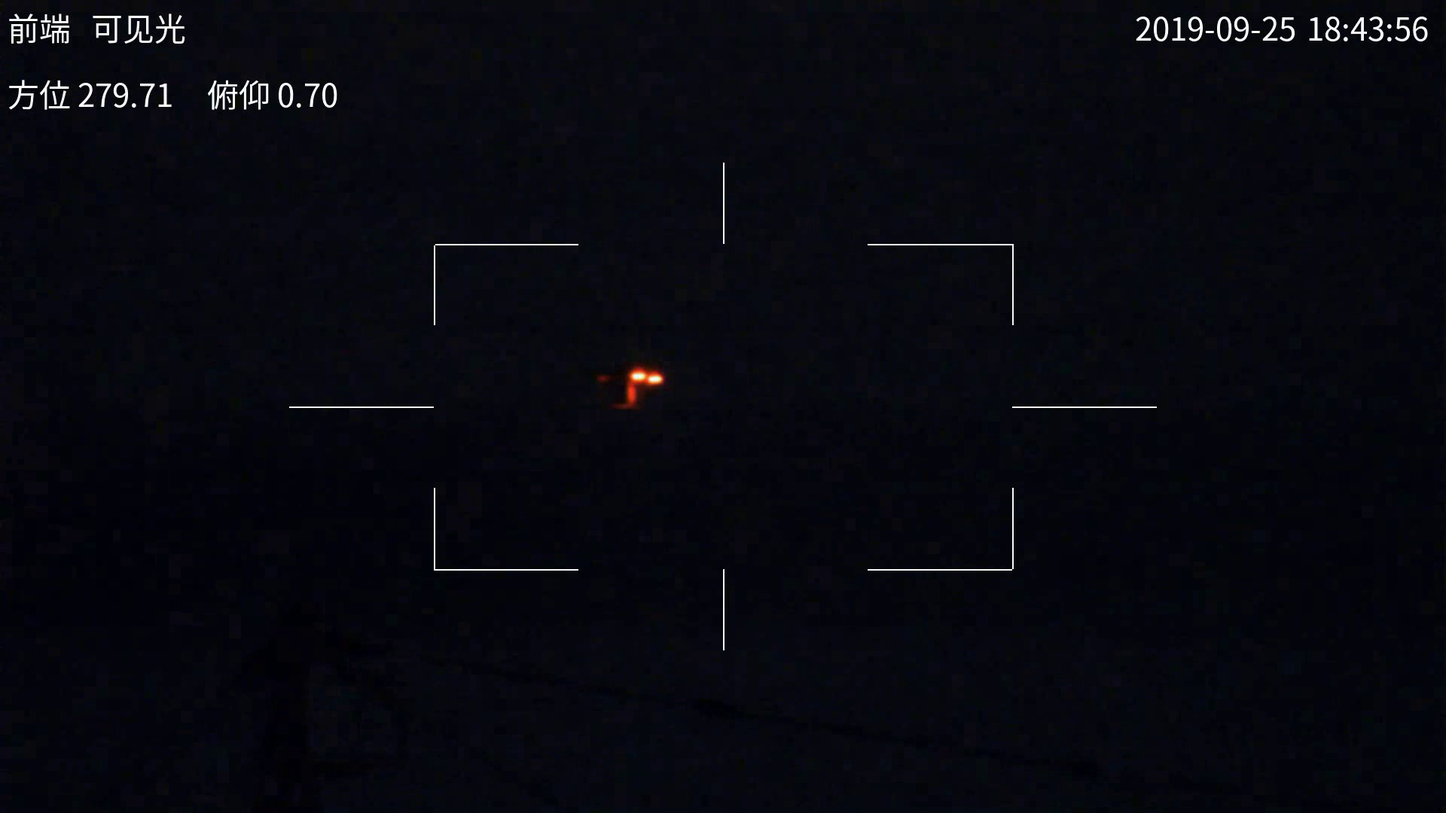drone: (590, 364, 681, 410)
